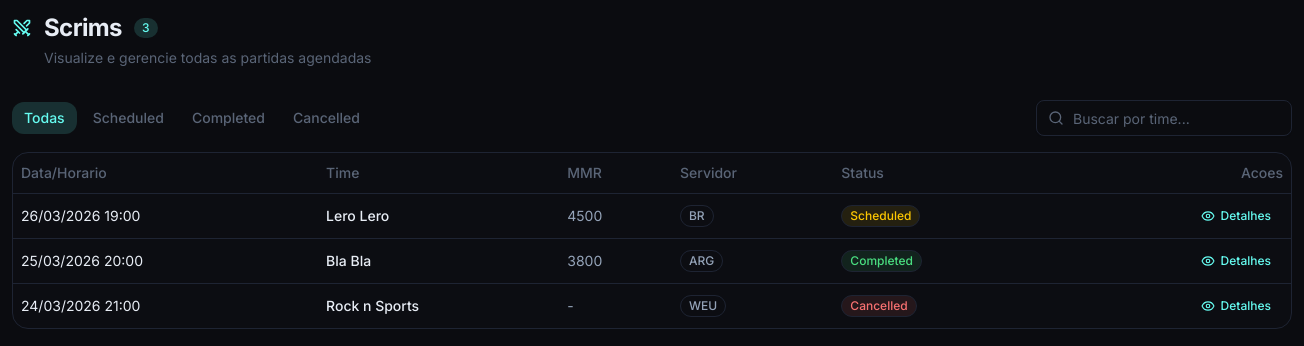
Scenario: AdminScrims › empty state › shows empty state when no scrims match
Type "Inexistente" into the field with placeholder "Buscar por time..." at (1164, 118), box [1036,100,1292,136]
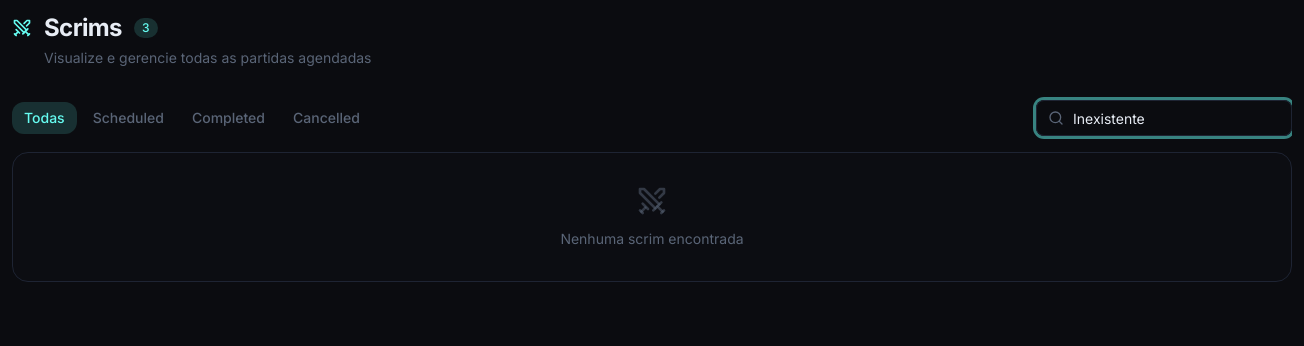
Check: the text "Nenhuma scrim encontrada" is shown, box [560,230,744,247]
